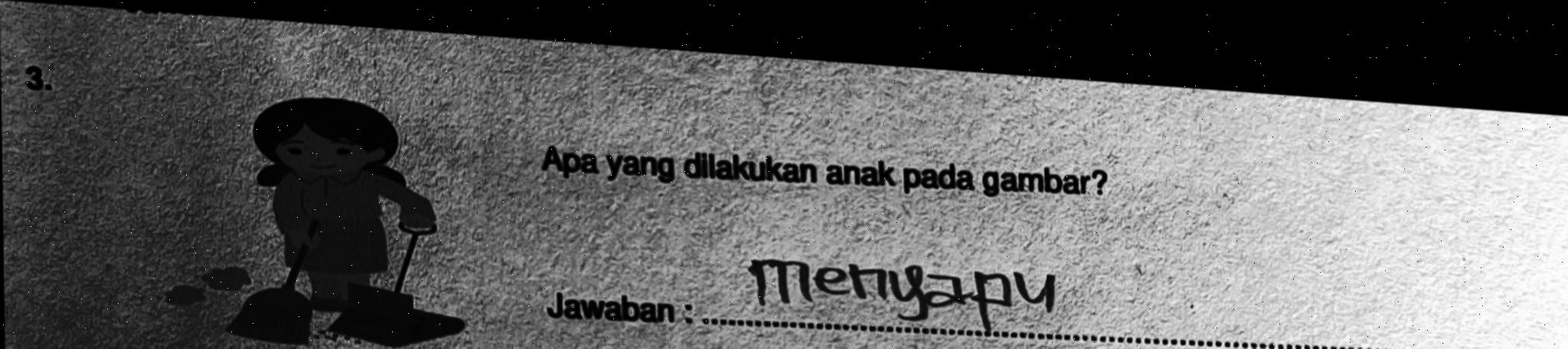jawaban: (748, 253, 1068, 327)
